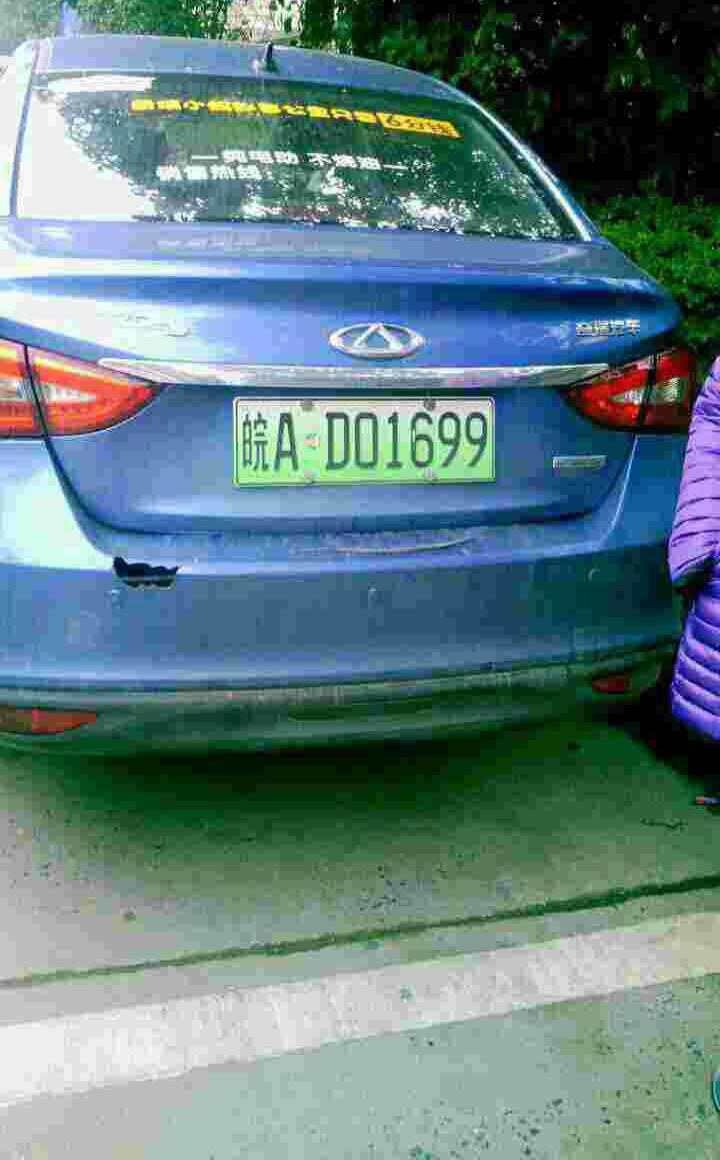car_id: (236, 398, 494, 483)
